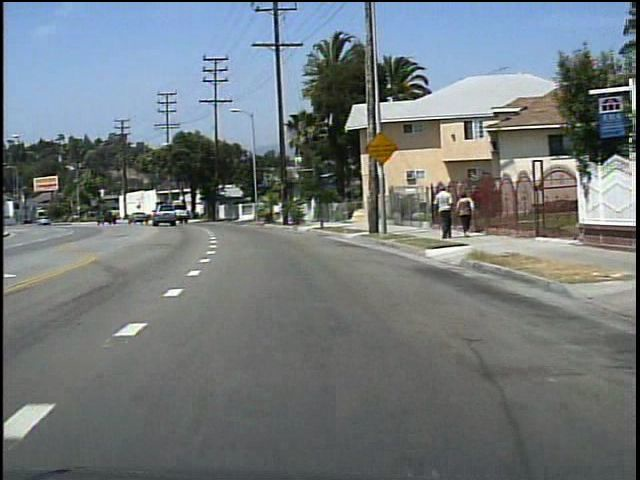person: (431, 182, 452, 241), (452, 189, 476, 239)
